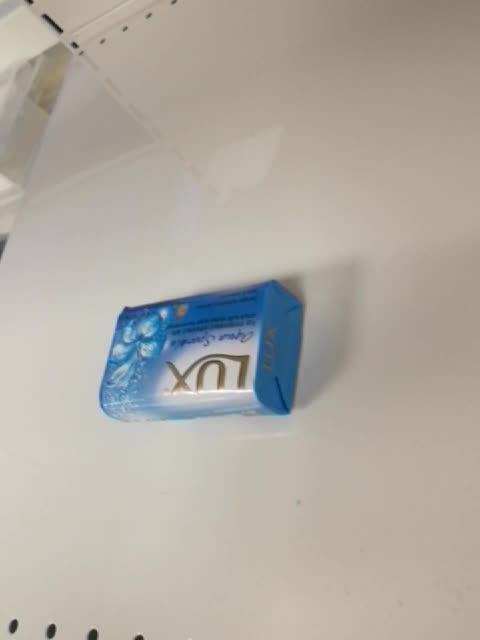soap: (98, 279, 304, 423)
